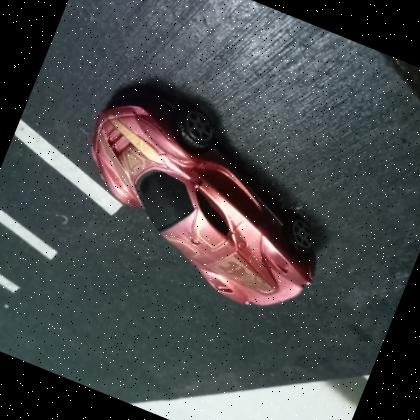Car: (51, 74, 358, 328)
